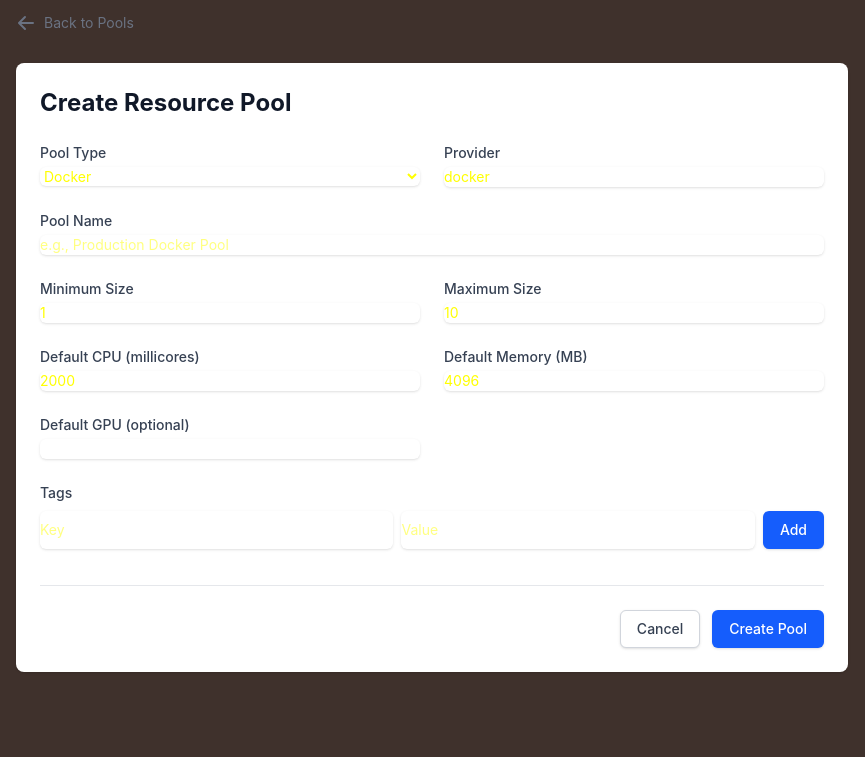
Test: ResourcePoolForm › displays required field validation
Click the button "Create Pool" at (768, 629), box [712,610,824,648]
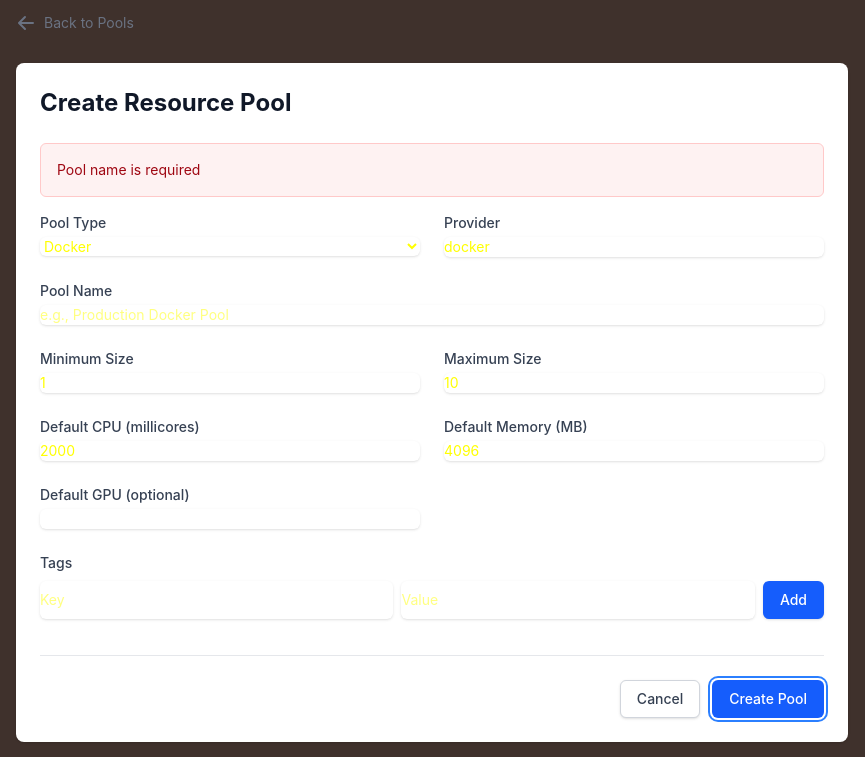
Check: the text "Pool name is required" is shown, box [57,161,200,178]
